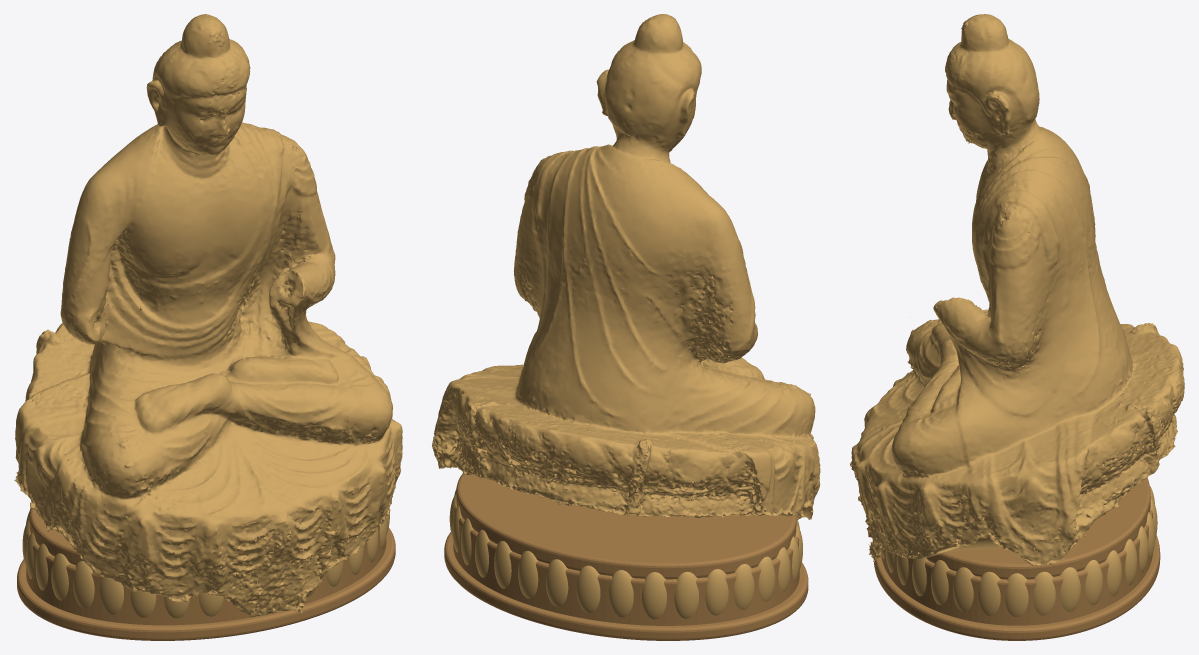
The model's file is sculpture.glb.
3 renders of one model, left to right at view 1: azimuth 30°, elevation 25°; view 2: azimuth 150°, elevation 25°; view 3: azimuth 270°, elevation 25°, orthographic. The views are drawn at different scales.
Parts seen in each view (by area): view 1: Tang sculpture | scanned face and flowing drapery; view 2: Tang sculpture | scanned face and flowing drapery; view 3: Tang sculpture | scanned face and flowing drapery.
Boxes of the visible parts, <box> form: Tang sculpture | scanned face and flowing drapery: <box>14,14,402,640</box>; Tang sculpture | scanned face and flowing drapery: <box>432,14,820,640</box>; Tang sculpture | scanned face and flowing drapery: <box>850,14,1184,640</box>.
Bounding box in the file's own units: 1.23 × 1.92 × 1.09.
